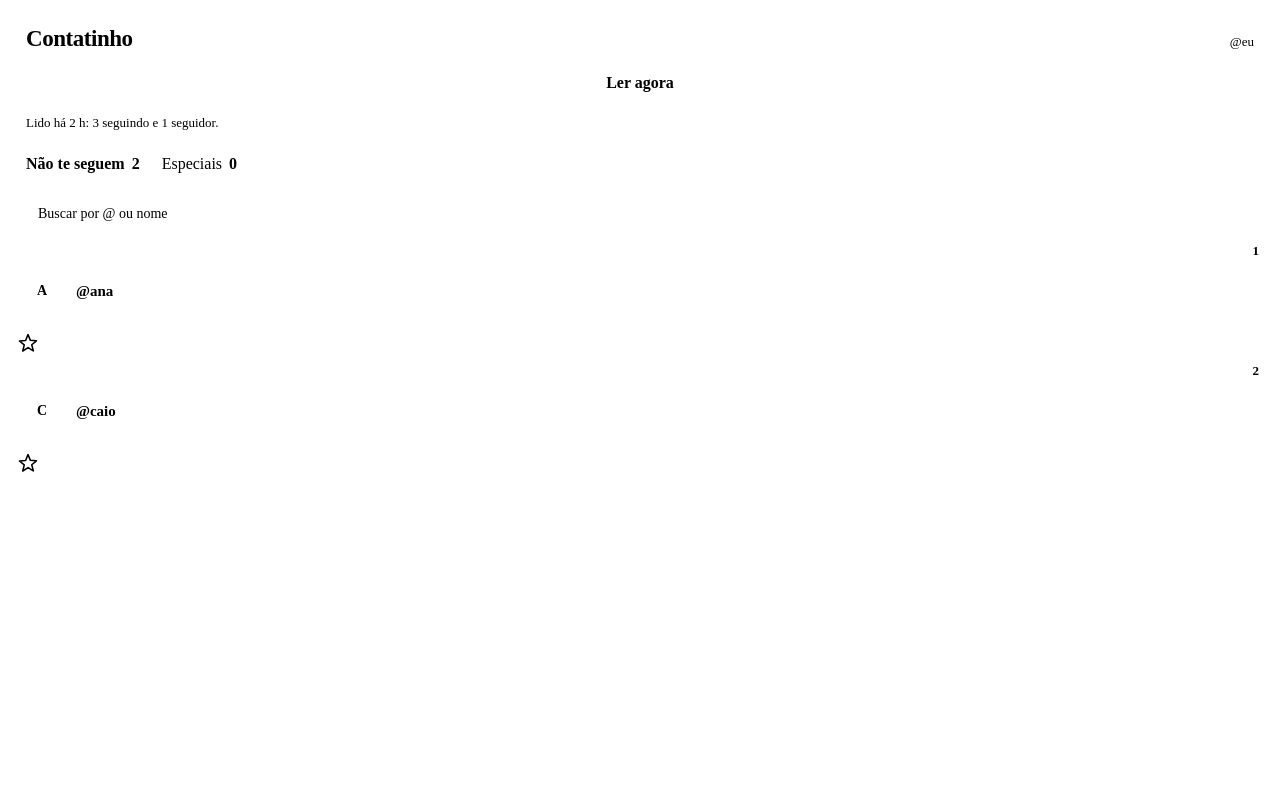
Test: App › a estrela leva a conta para Especiais
The width and height of the screenshot is (1280, 800).
Click the button named "Marcar @ana como especial" at (28,343), box [8,323,48,363]
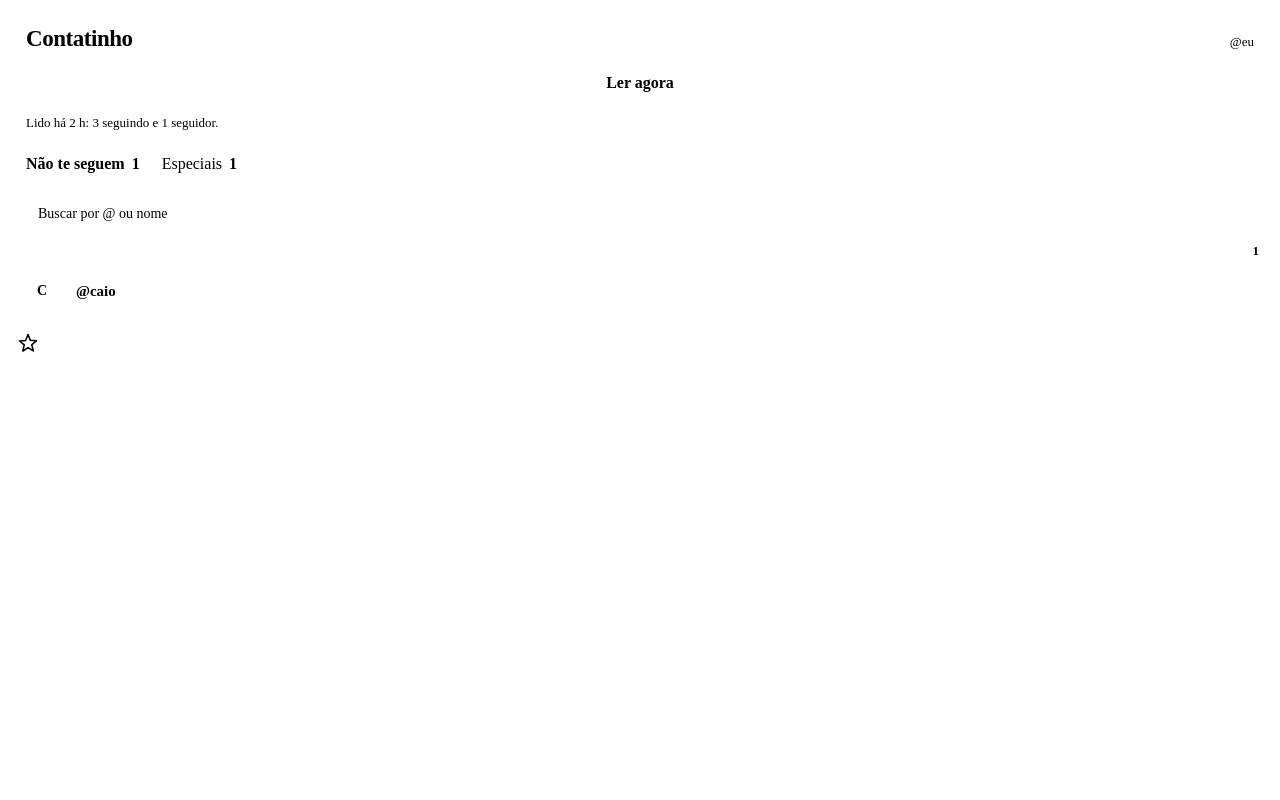
Now the button "@ana" is gone
Click the tab "Especiais 1" at (199,165), box [162,145,237,185]
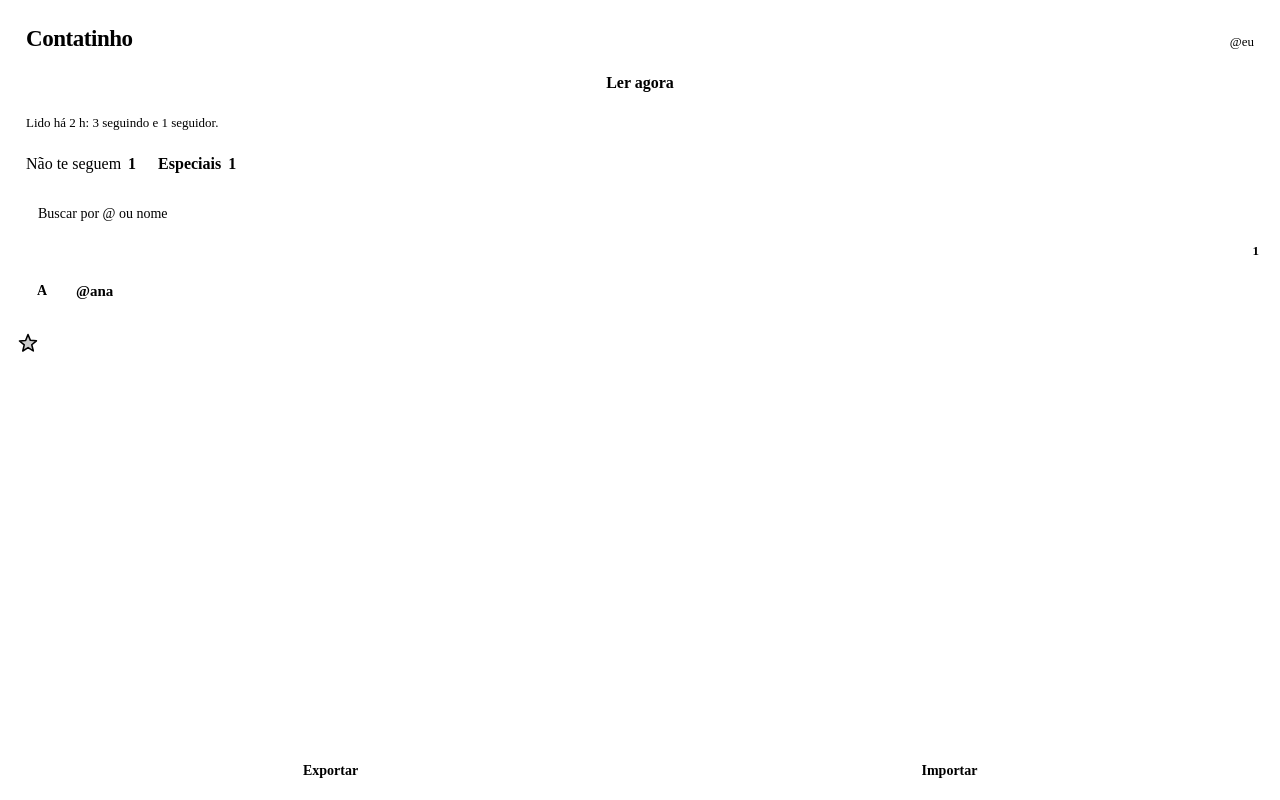
Now the text "@ana" is shown, box [76,283,113,300]
Now the button named "Tirar @ana das especiais" is shown, box [8,323,48,363]
